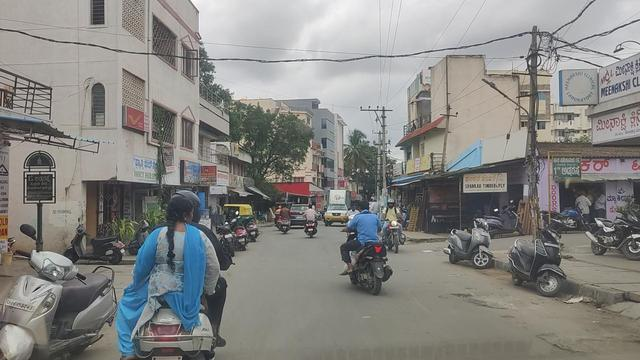LMV: (131, 188, 225, 360), (347, 194, 395, 299), (344, 204, 359, 241), (302, 204, 317, 237)
RoadDamages: (452, 281, 509, 313), (541, 323, 591, 357)
